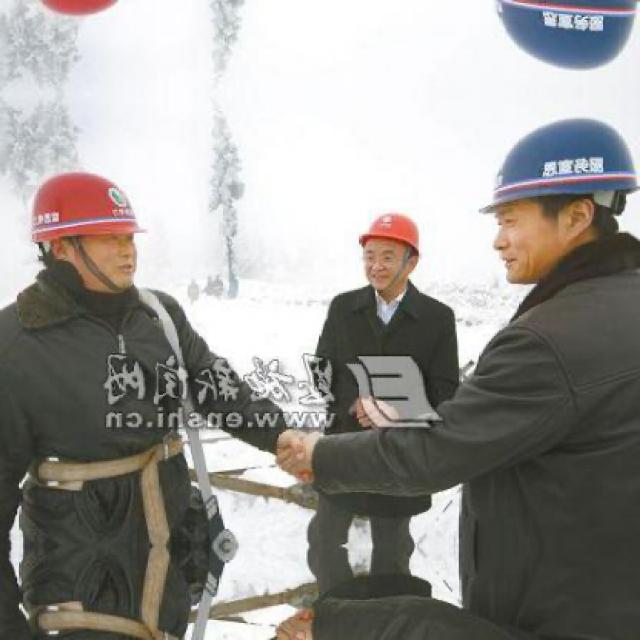helmet: (467, 106, 636, 287), (23, 160, 154, 301), (465, 0, 636, 83), (356, 204, 432, 293), (23, 0, 156, 29)
